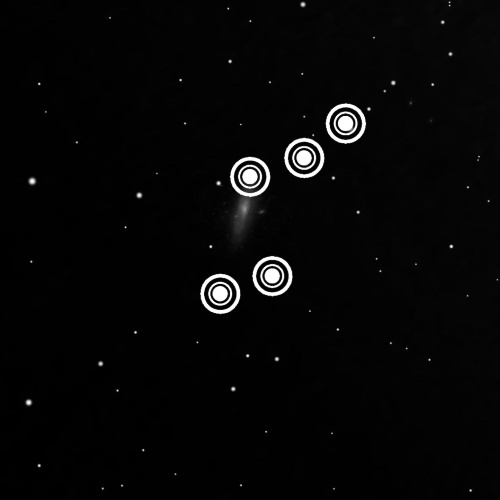lyra: (190, 93, 385, 327)
